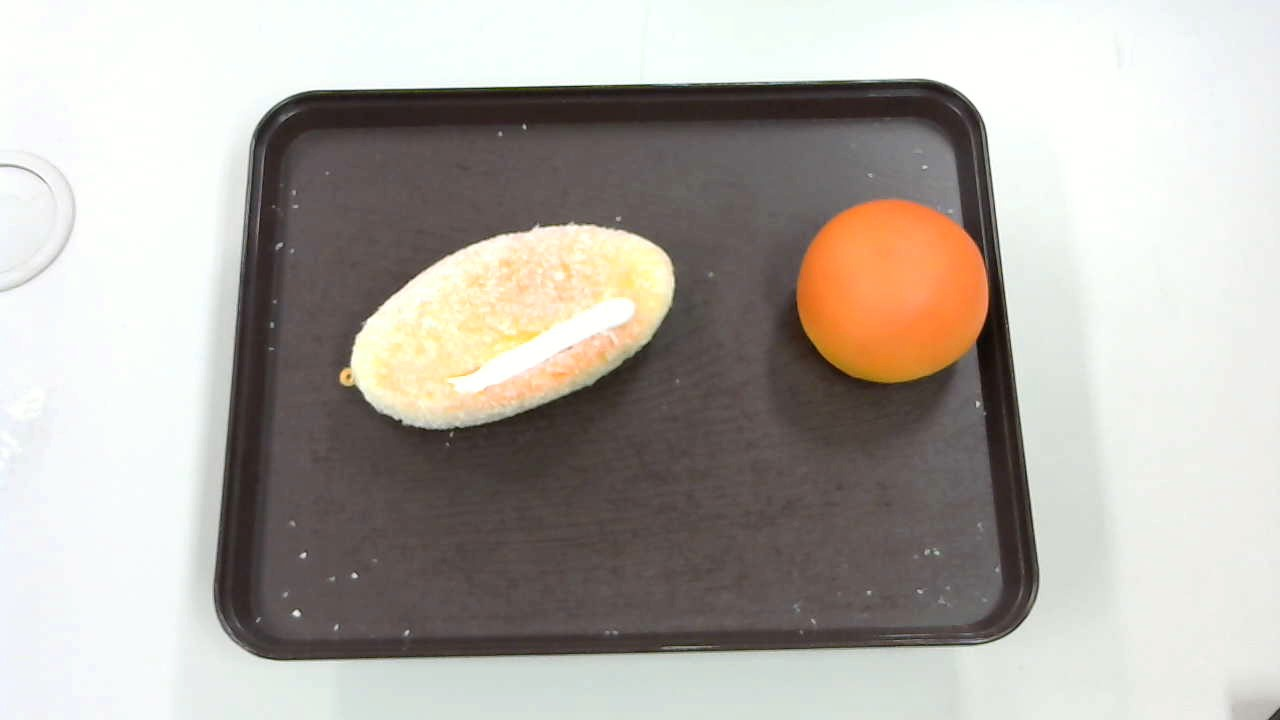bun: (796, 198, 988, 385)
coconut: (338, 222, 676, 431)
